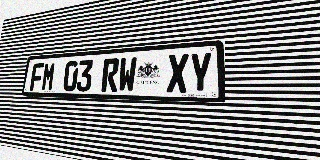0: (62, 60, 79, 91)
3: (76, 60, 93, 92)
F: (29, 63, 44, 91)
M: (41, 62, 56, 91)
R: (101, 58, 120, 92)
W: (118, 57, 137, 92)
X: (166, 53, 189, 93)
Y: (189, 52, 212, 93)
